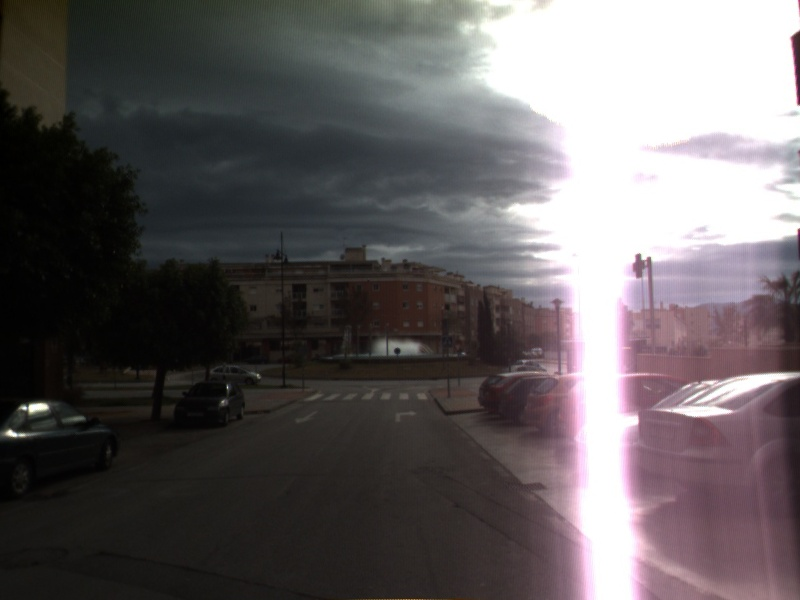RIGHT: (393, 408, 419, 424)
